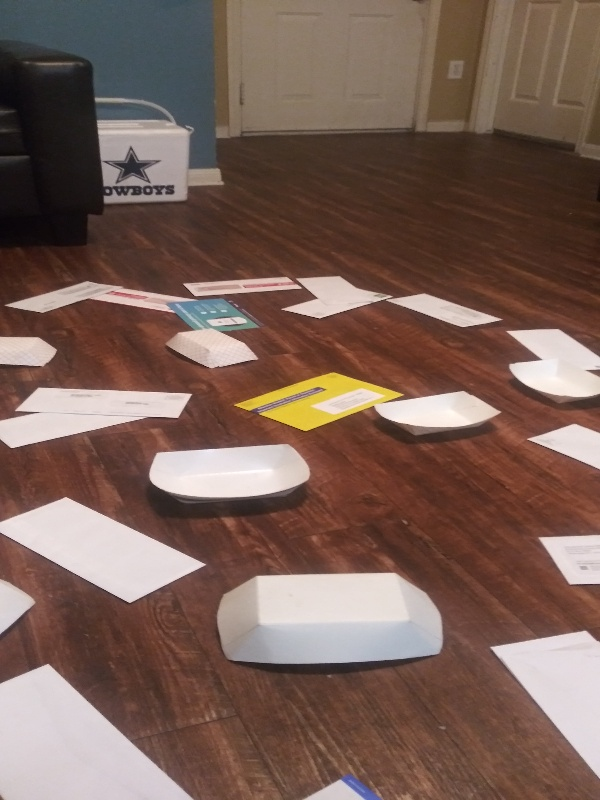plate: (211, 572, 444, 667), (147, 443, 315, 503), (372, 388, 505, 444), (503, 356, 600, 409), (162, 325, 263, 371), (1, 333, 62, 369)
